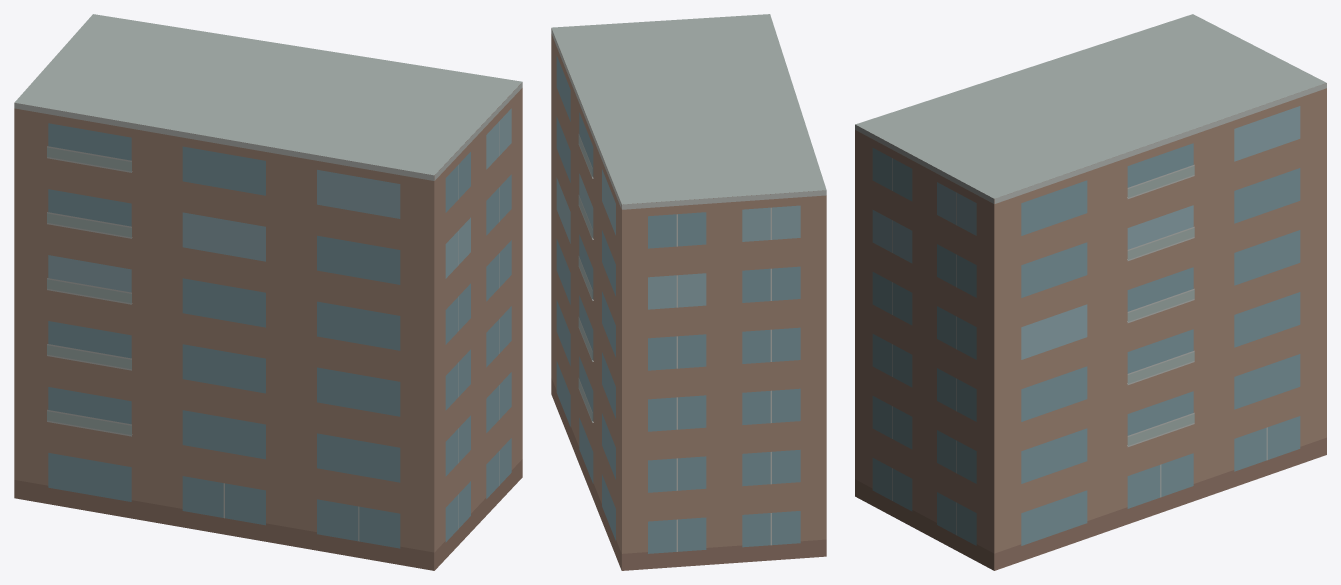
The model's file is survey-upis-32866463.glb.
3 views of the same model, side by side, from view 1: azimuth 30°, elevation 25°; view 2: azimuth 150°, elevation 25°; view 3: azimuth 270°, elevation 25° (orthographic). The views are drawn at different scales.
Visible parts, largest first — view 1: survey-upis-32866463.tmp; view 2: survey-upis-32866463.tmp; view 3: survey-upis-32866463.tmp.
Boxes of the visible parts, x1,y1,x2,y2 form: survey-upis-32866463.tmp: (14,14,522,570); survey-upis-32866463.tmp: (551,14,826,570); survey-upis-32866463.tmp: (855,14,1326,570).
Size of the model in its own units: 18.02 by 16.9 by 19.43.
